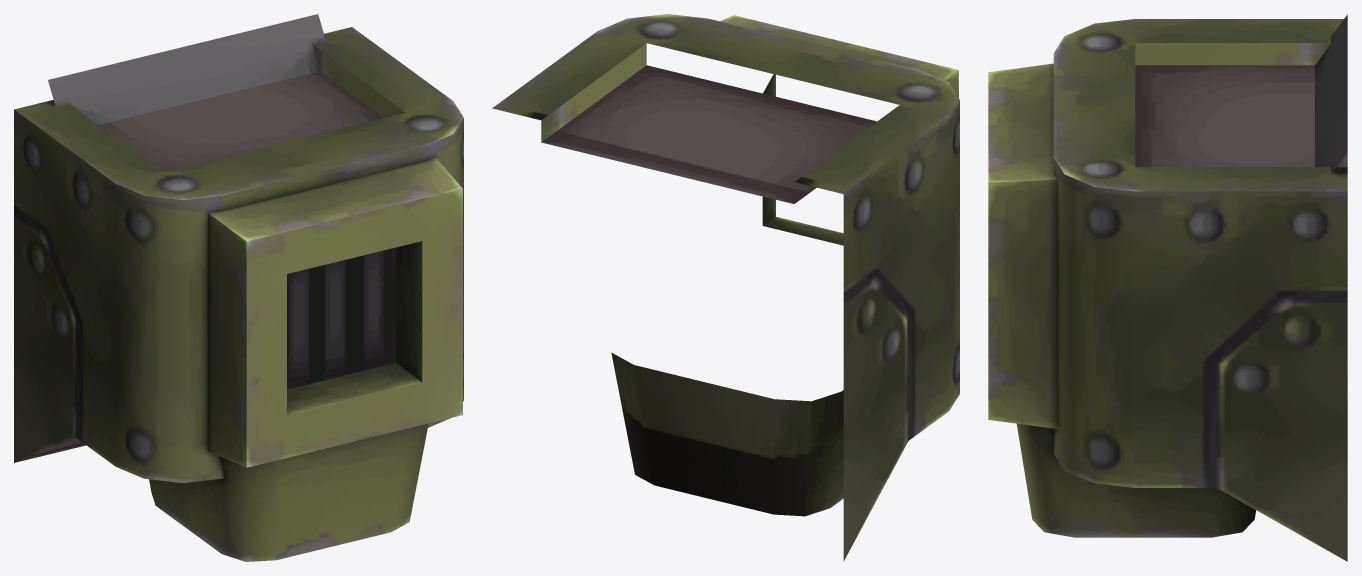
The model's file is fire_block.glb.
The picture shows the model from 3 angles, left to right: view 1: azimuth 30°, elevation 25°; view 2: azimuth 150°, elevation 25°; view 3: azimuth 270°, elevation 25°; orthographic projection. The views are drawn at different scales.
Parts seen in each view (by area): view 1: fire_block.fire_block-MeshNodes["flame_block"]; view 2: fire_block.fire_block-MeshNodes["flame_block"]; view 3: fire_block.fire_block-MeshNodes["flame_block"].
Boxes of the visible parts, x1,y1,x2,y2 form: fire_block.fire_block-MeshNodes["flame_block"]: [14, 14, 463, 561]; fire_block.fire_block-MeshNodes["flame_block"]: [492, 14, 959, 561]; fire_block.fire_block-MeshNodes["flame_block"]: [988, 14, 1347, 561].
Bounding box in the file's own units: 1 × 1.1 × 0.88.
1 material, 1 textured.
